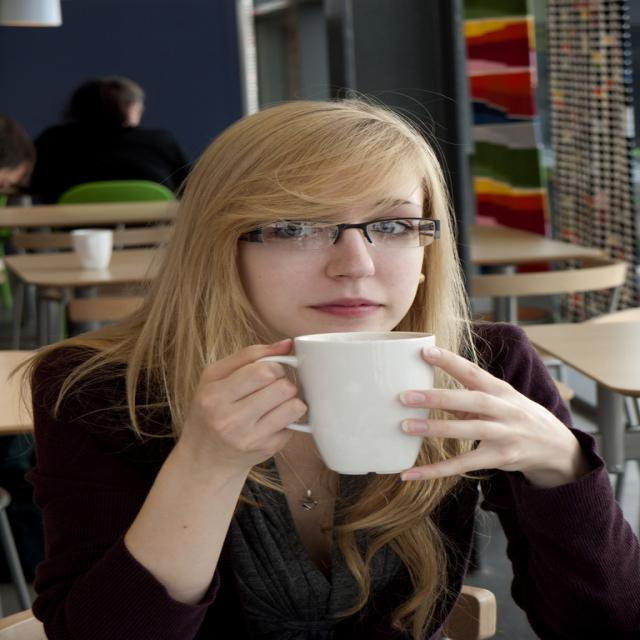chair: (58, 179, 178, 245)
desk: (517, 318, 640, 477)
person: (16, 99, 621, 640), (29, 76, 191, 203)
